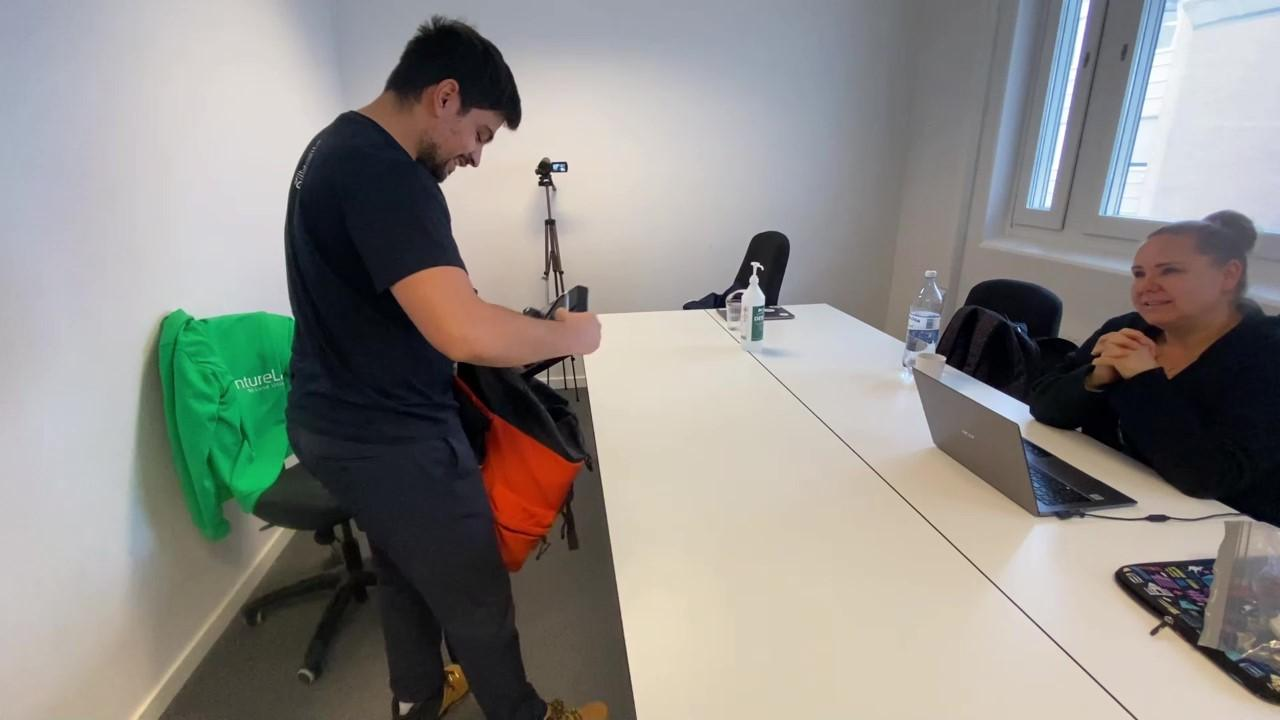shoplifting: (285, 25, 601, 720)
